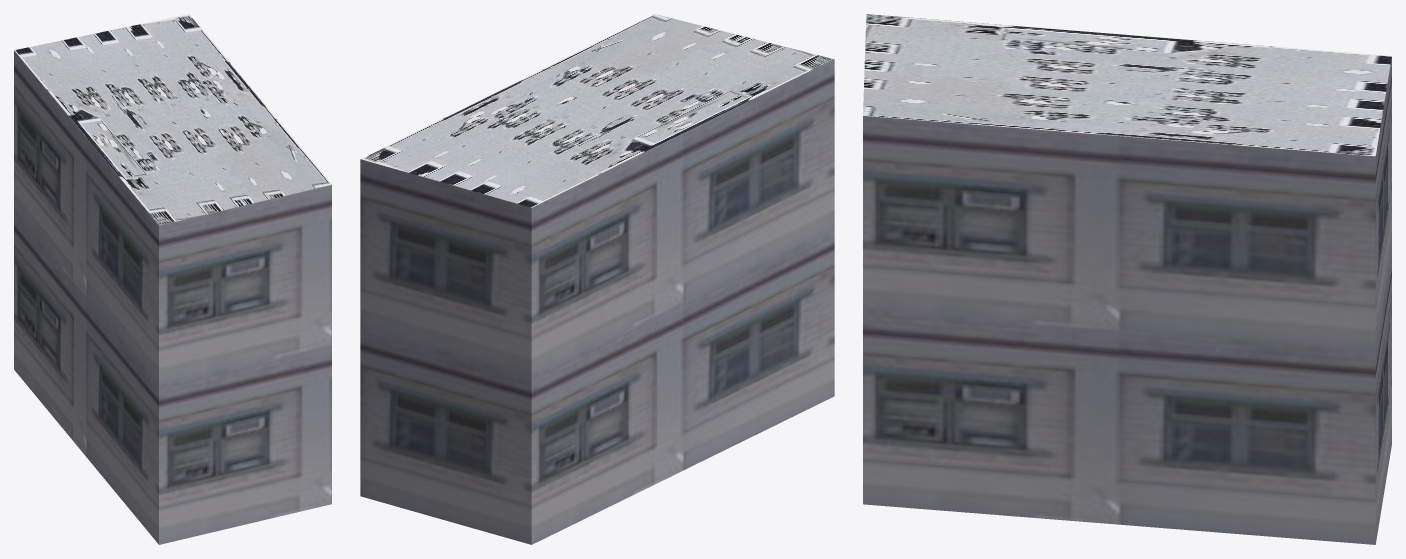
File: ResTex__4653.fbx
3 views of the same model, side by side, from view 1: azimuth 30°, elevation 25°; view 2: azimuth 150°, elevation 25°; view 3: azimuth 270°, elevation 25° (orthographic). The views are drawn at different scales.
Visible parts, largest first — view 1: CityEngineMaterial_1_m, CityEngineMaterial_4_m; view 2: CityEngineMaterial_1_m, CityEngineMaterial_4_m; view 3: CityEngineMaterial_1_m, CityEngineMaterial_4_m.
Boxes of the visible parts, <box> form: CityEngineMaterial_1_m: <box>14,50,331,544</box>; CityEngineMaterial_4_m: <box>14,14,331,225</box>; CityEngineMaterial_1_m: <box>360,59,834,544</box>; CityEngineMaterial_4_m: <box>360,14,833,207</box>; CityEngineMaterial_1_m: <box>863,57,1391,544</box>; CityEngineMaterial_4_m: <box>863,14,1391,156</box>.
Size of the model in its own units: 4.72 by 6 by 7.4.
Materials: 2 (2 with a texture image).
